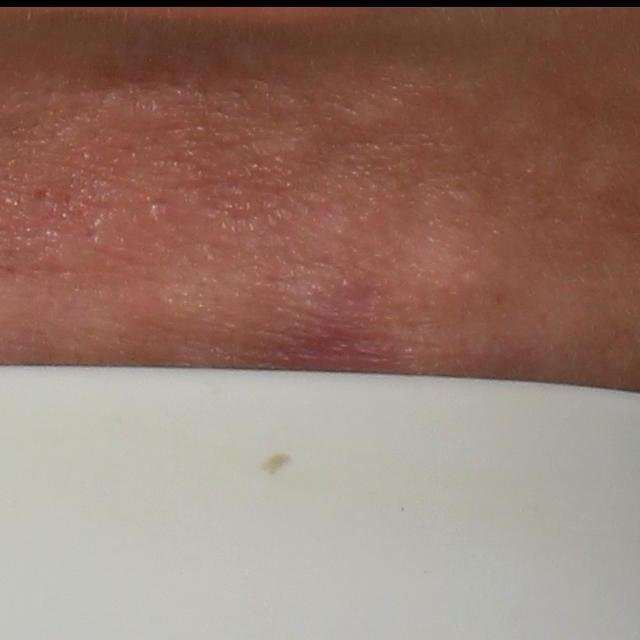hypertrophic_scar: (90, 86, 175, 134), (333, 88, 412, 138)
